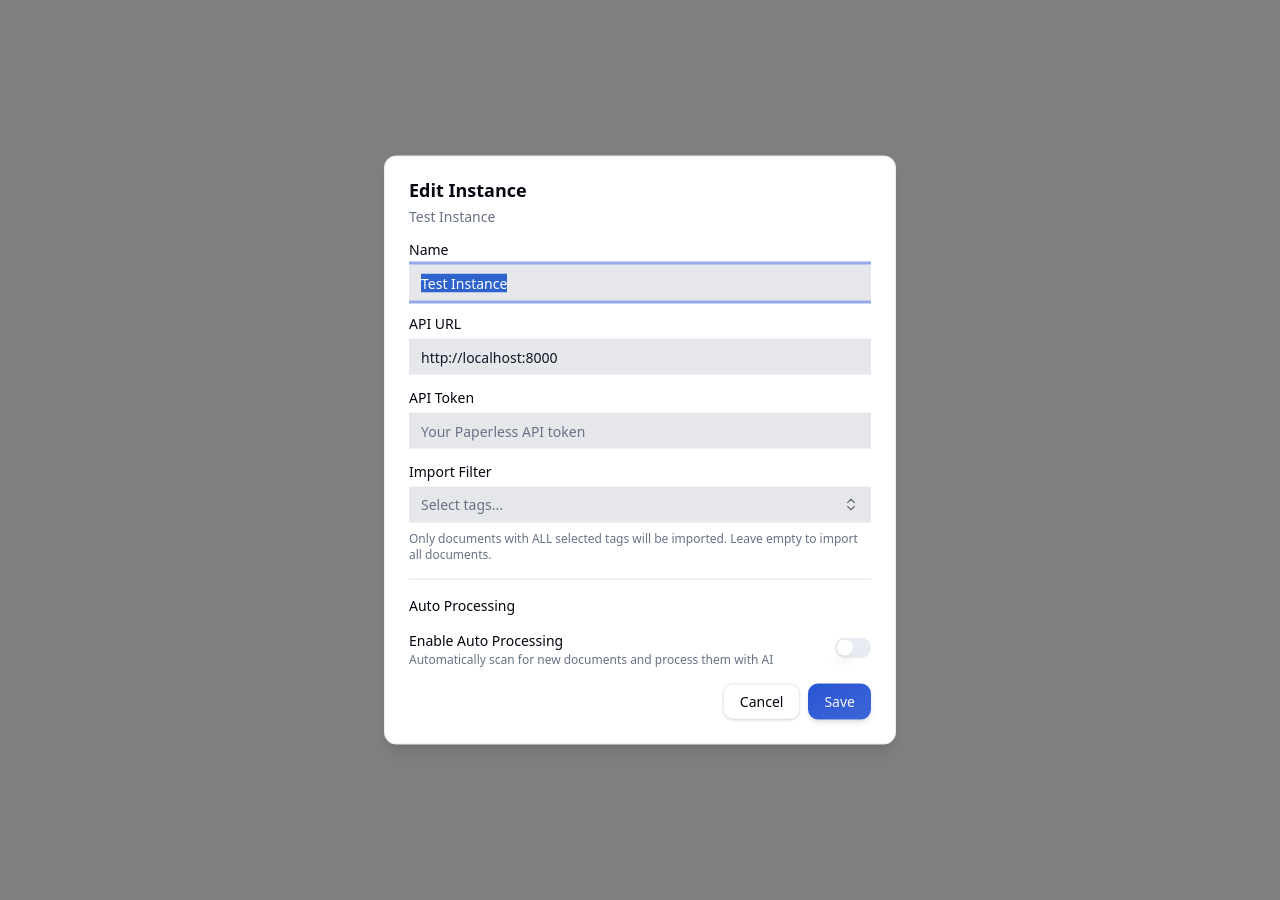
Scenario: EditInstanceDialog › auto-processing settings › shows auto-apply section when auto-processing is enabled
expect the dialog is shown: met, box x1=384 y1=156 x2=896 y2=744
Note: Enable auto-processing
Click the switch with test id "edit-instance-autoProcessEnabled-switch" at (853, 648), box x1=835 y1=638 x2=871 y2=658
(page scrolled)
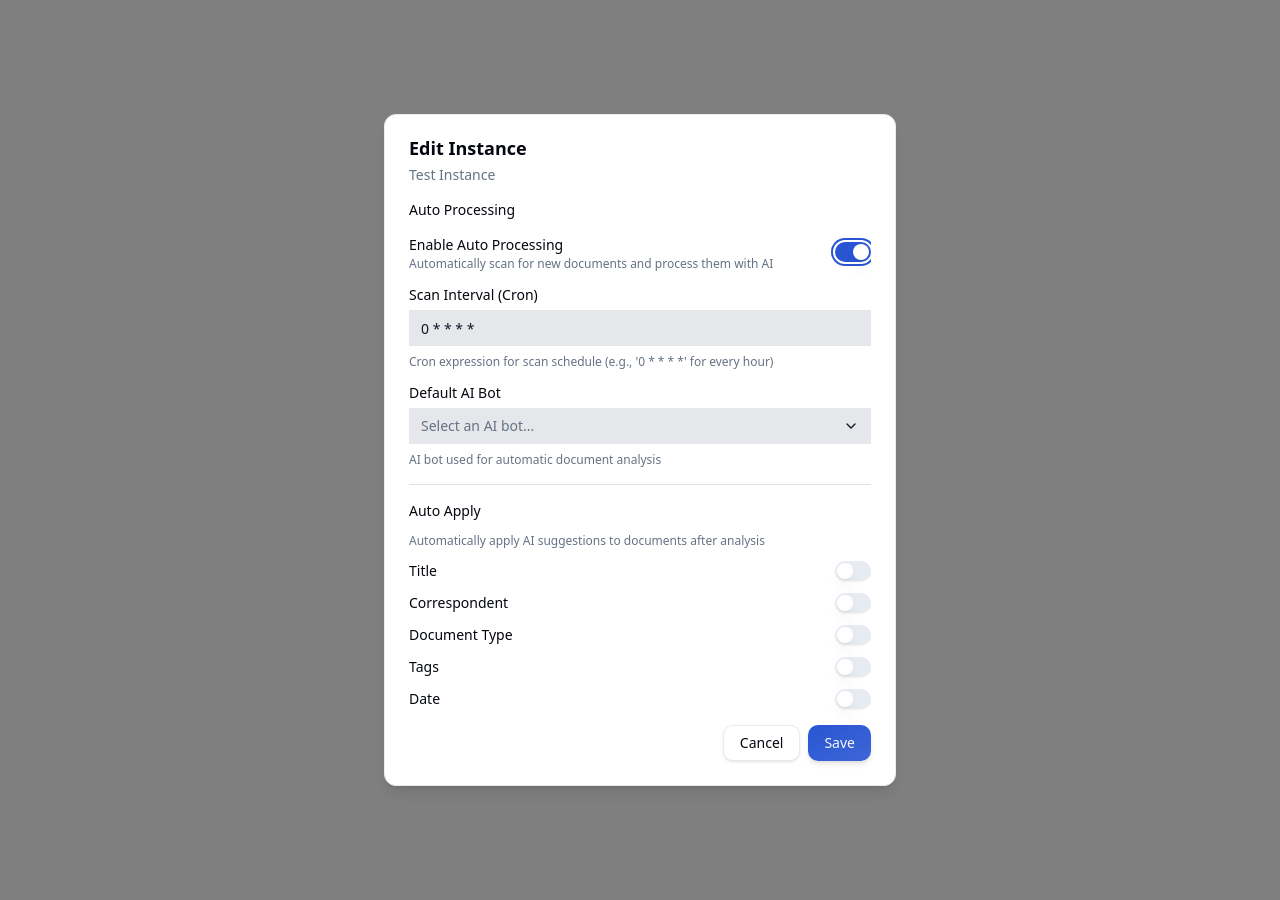
expect the switch with test id "edit-instance-autoApplyTitle-switch" is shown: met, box x1=835 y1=561 x2=871 y2=581
